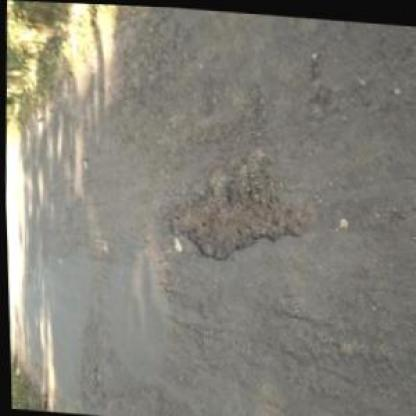pothole: (154, 137, 313, 268)
